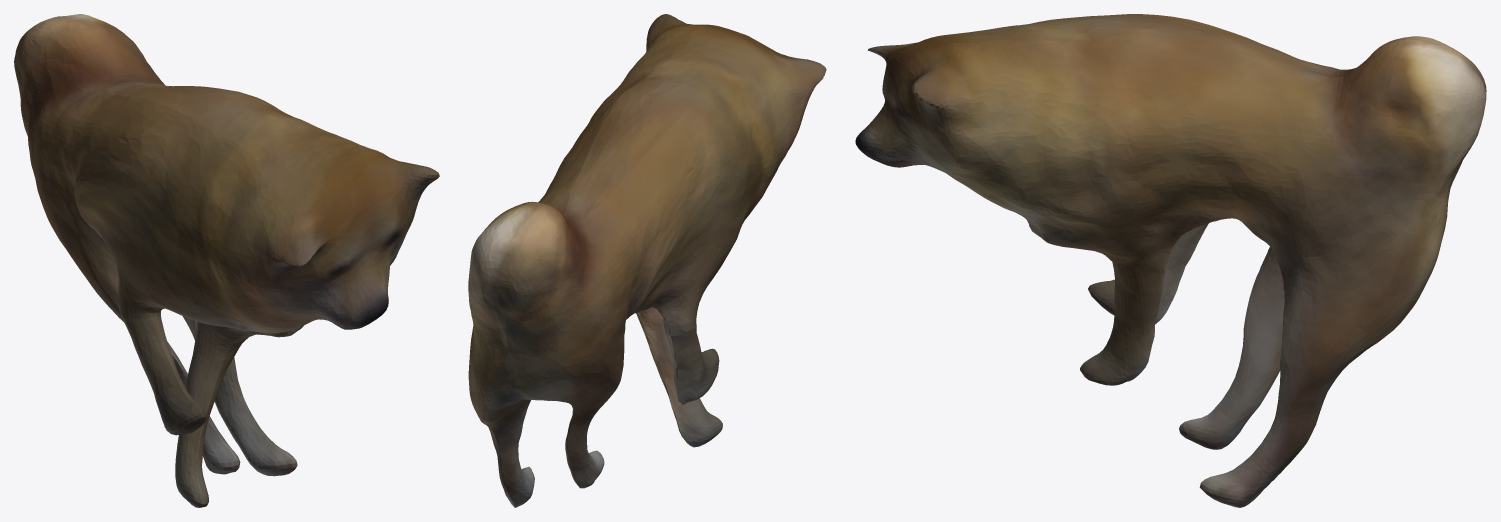
Rendered from shiba-haru-1002-mesh-00008.obj.
3 renders of one model, left to right at view 1: azimuth 30°, elevation 25°; view 2: azimuth 150°, elevation 25°; view 3: azimuth 270°, elevation 25°, orthographic. The views are drawn at different scales.
Bounding box in the file's own units: 0.034 × 0.074 × 0.0971.
